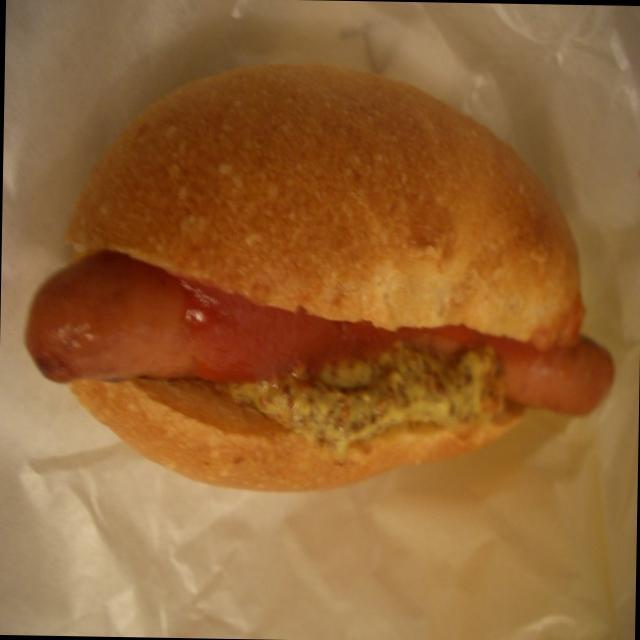Hot Dog: (20, 80, 596, 506)
